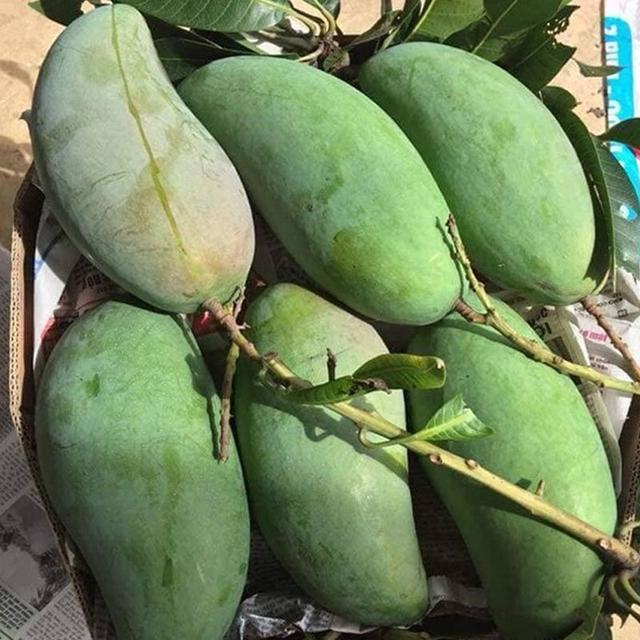xoai: (175, 56, 471, 325), (405, 292, 616, 635), (36, 303, 248, 638), (33, 5, 256, 313), (233, 283, 430, 627), (356, 41, 596, 306)
